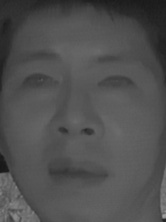eye: (96, 70, 140, 94), (18, 70, 60, 95)
mouth: (40, 151, 109, 194)
